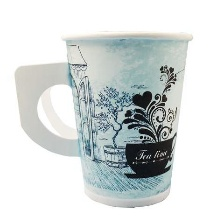paper_cup: (8, 24, 199, 213)
